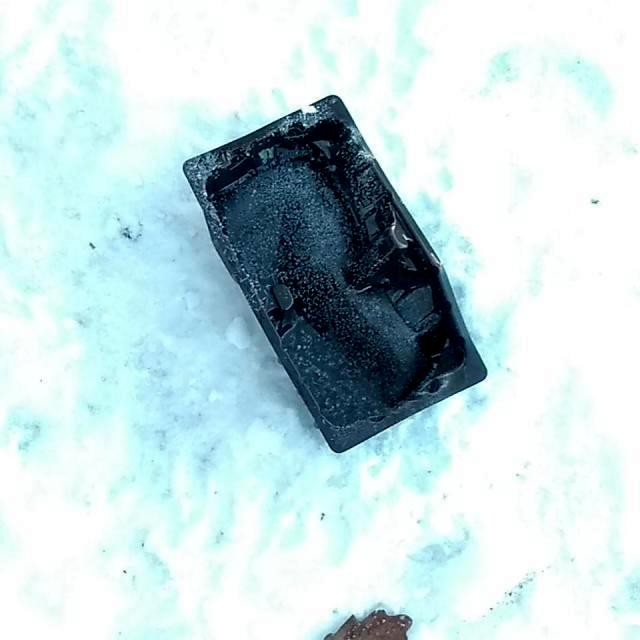Plastic: (176, 86, 490, 458)
